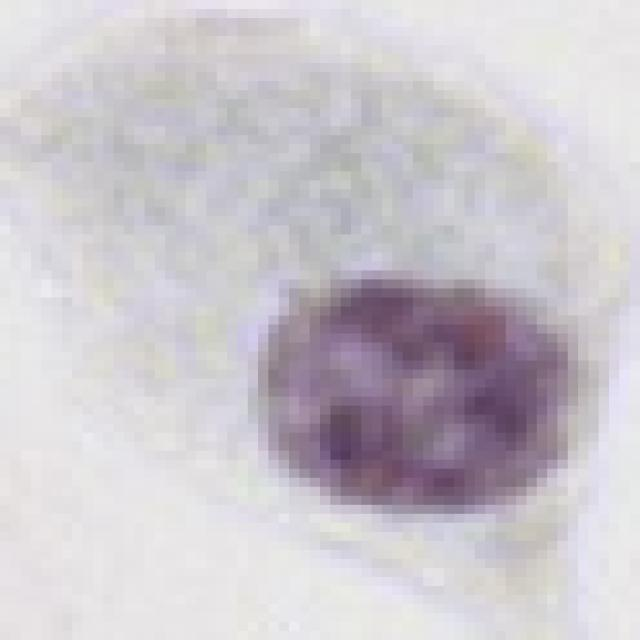nucleus: (248, 260, 579, 524)
